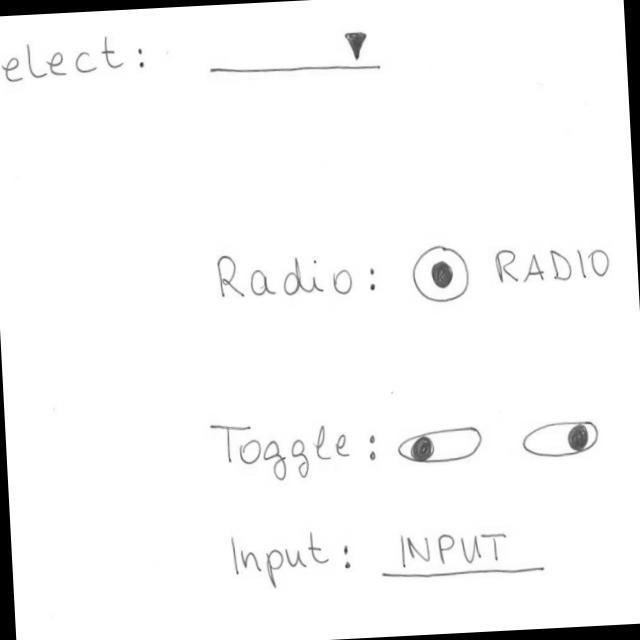input: (377, 521, 548, 584)
radio: (408, 247, 473, 307)
select: (205, 27, 385, 85)
toggle: (396, 421, 487, 469), (520, 416, 605, 464)
